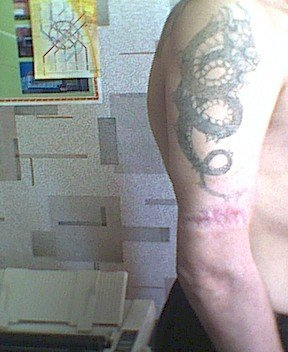tatu7_zmeya: (176, 8, 242, 201)
